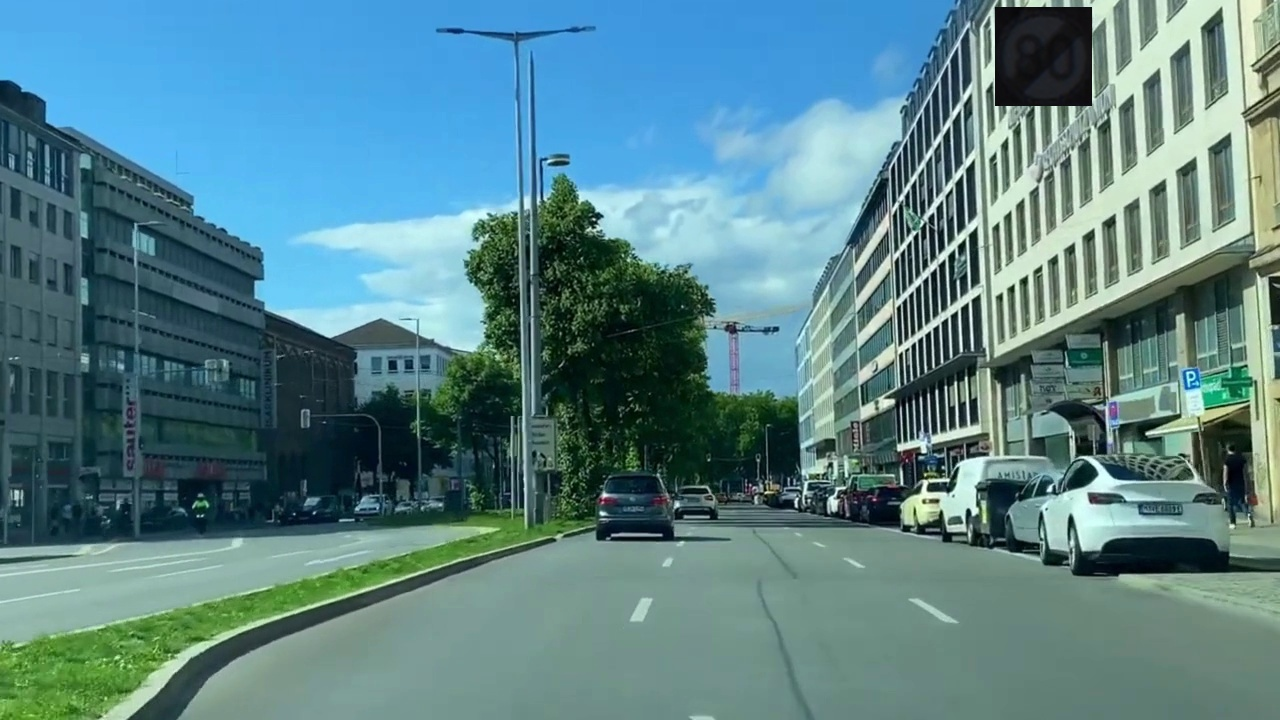End Speed 80: (995, 7, 1092, 106)
